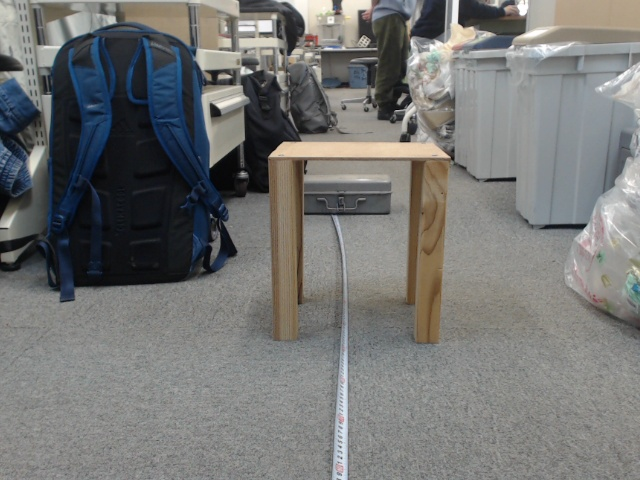desk: (243, 166, 469, 438)
